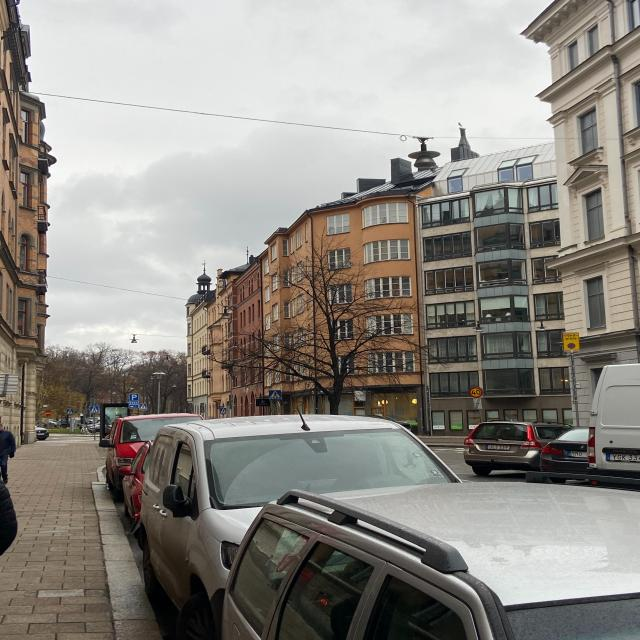psign: (129, 394, 139, 401)
